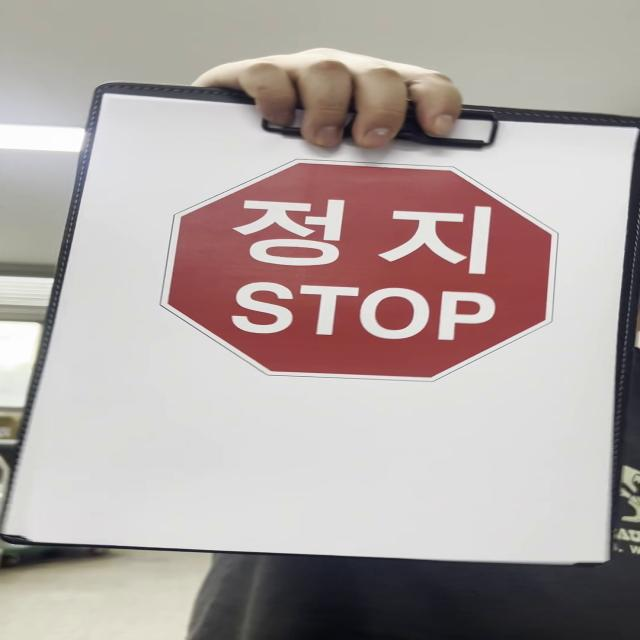stop: (153, 156, 562, 383)
